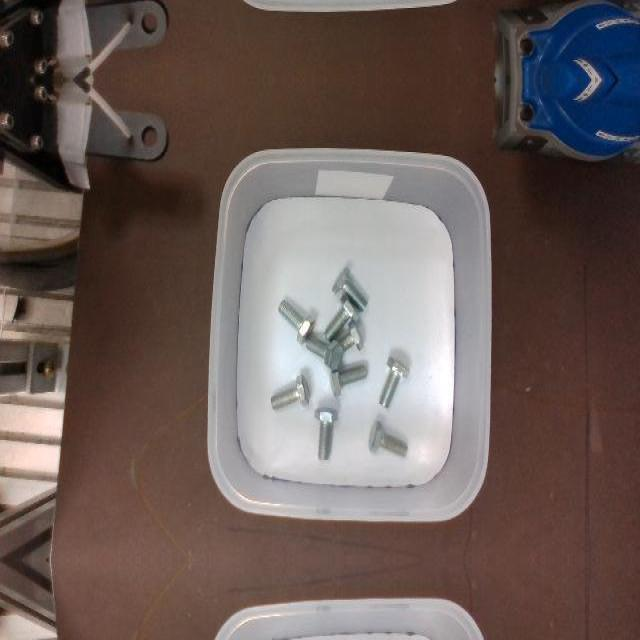screw: (278, 300, 315, 344), (332, 266, 368, 310), (325, 293, 359, 339), (379, 356, 409, 406), (369, 421, 408, 457), (271, 374, 309, 410), (307, 337, 344, 371), (315, 408, 338, 460), (330, 364, 367, 396)
